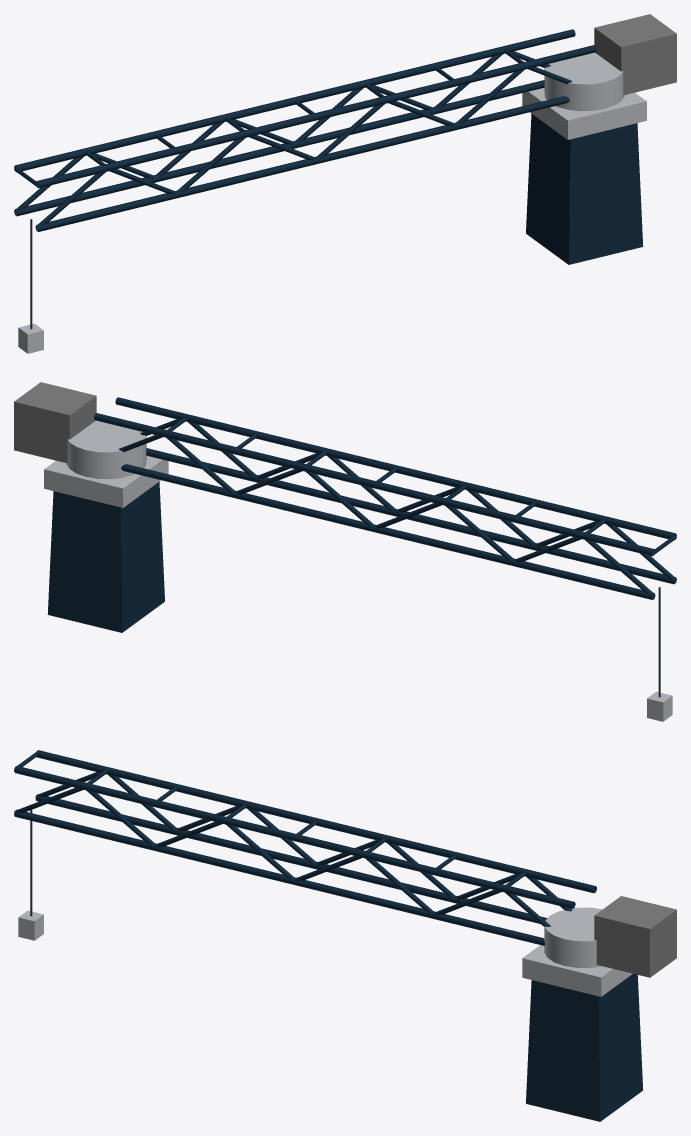
Rendered from world_crane_arm.glb.
The picture shows the model from 3 angles, top to bottom: view 1: azimuth 30°, elevation 25°; view 2: azimuth 150°, elevation 25°; view 3: azimuth 330°, elevation 25°; orthographic projection.
Parts seen in each view (by area): view 1: world_crane_arm_mesh; view 2: world_crane_arm_mesh; view 3: world_crane_arm_mesh.
Part boxes in pixels (x1,y1,x2,y2): world_crane_arm_mesh: [14, 14, 676, 353]; world_crane_arm_mesh: [14, 382, 676, 721]; world_crane_arm_mesh: [14, 750, 676, 1121].
Bounding box in the file's own units: 13.77 × 4.16 × 1.7.
